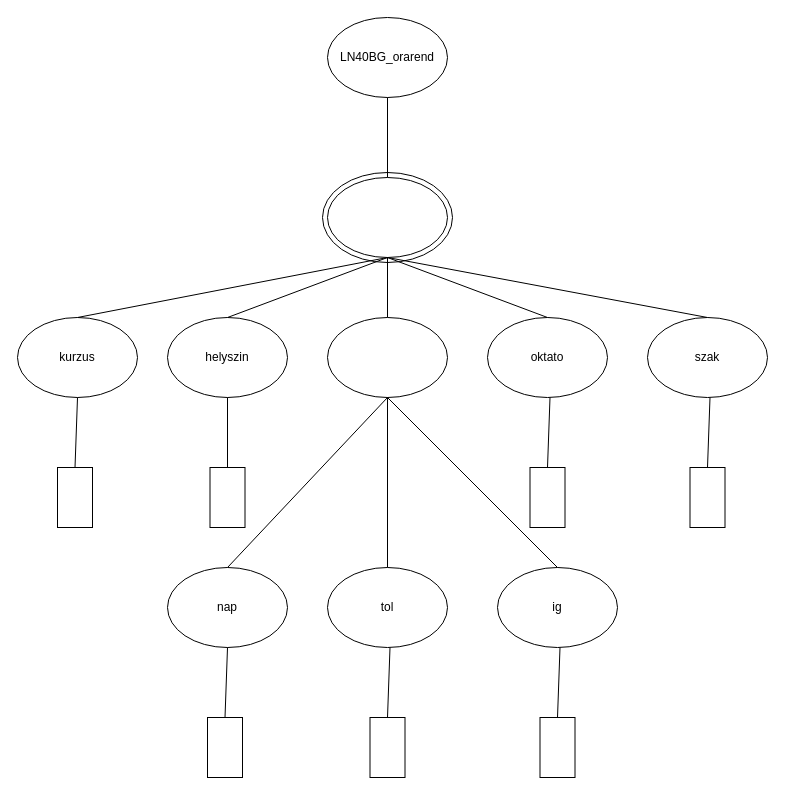
This 785x795 diagram has some shape labels left out. The shapes that lost their labels are listed below. From the top down, each one's box as (x1, y1, x2, y2) in pixels, then its label:
(326, 176, 448, 258): ora
(326, 316, 448, 398): idopont
